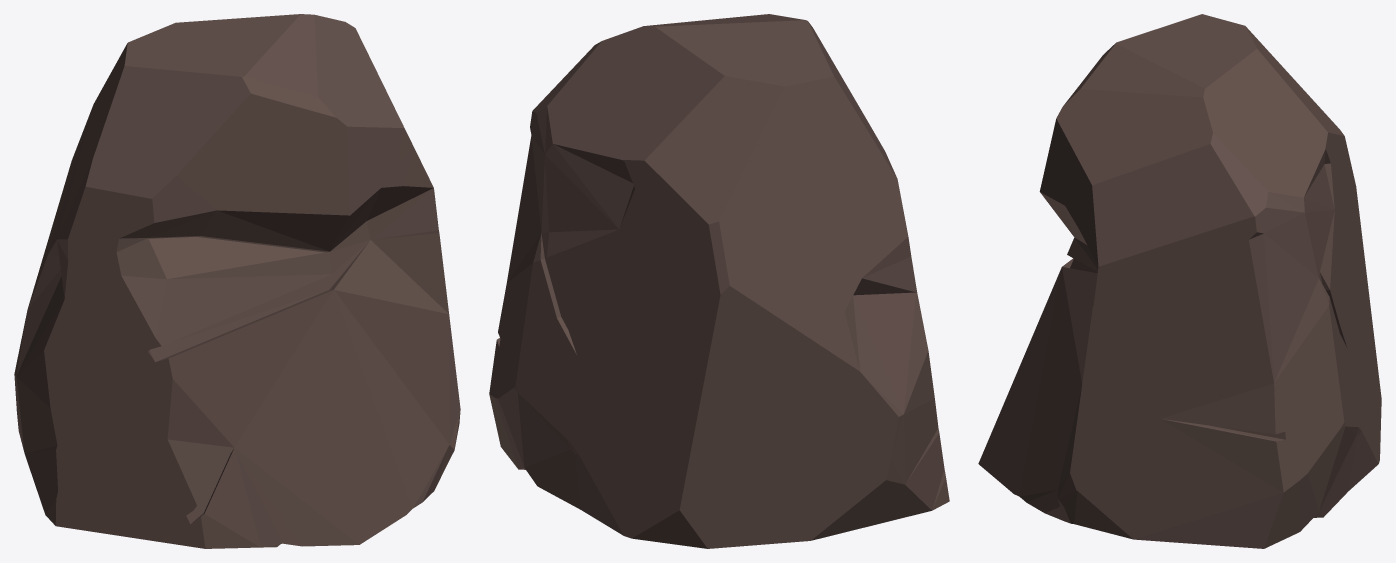
File: Rock 3.fbx
The picture shows the model from 3 angles, left to right: view 1: azimuth 30°, elevation 25°; view 2: azimuth 150°, elevation 25°; view 3: azimuth 270°, elevation 25°; orthographic projection. The views are drawn at different scales.
Visible parts, largest first — view 1: Cliff shard 3; view 2: Cliff shard 3; view 3: Cliff shard 3.
Boxes of the visible parts, box(x1,y1,x2,y2) form: Cliff shard 3: box(14, 14, 460, 548); Cliff shard 3: box(489, 14, 949, 548); Cliff shard 3: box(978, 14, 1381, 548).
Bounding box in the file's own units: 0.8333 × 0.8634 × 0.7824.
